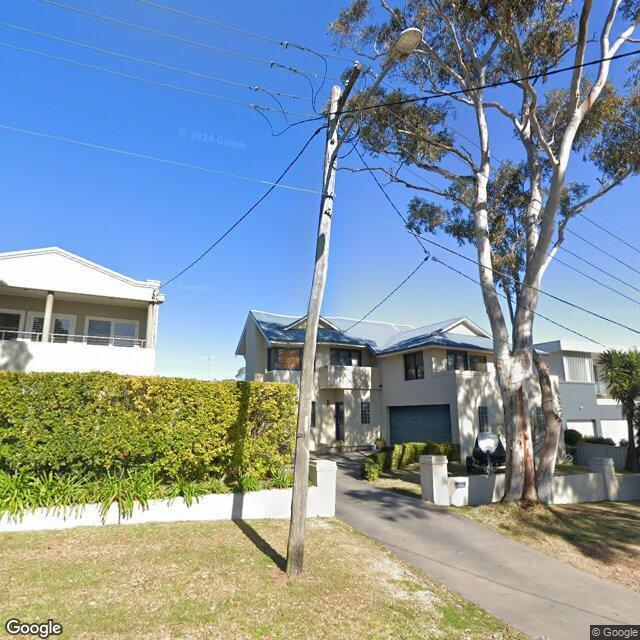crossarm: (327, 60, 364, 138)
streetlight: (330, 29, 424, 168)
timber-pole: (285, 86, 343, 574)
